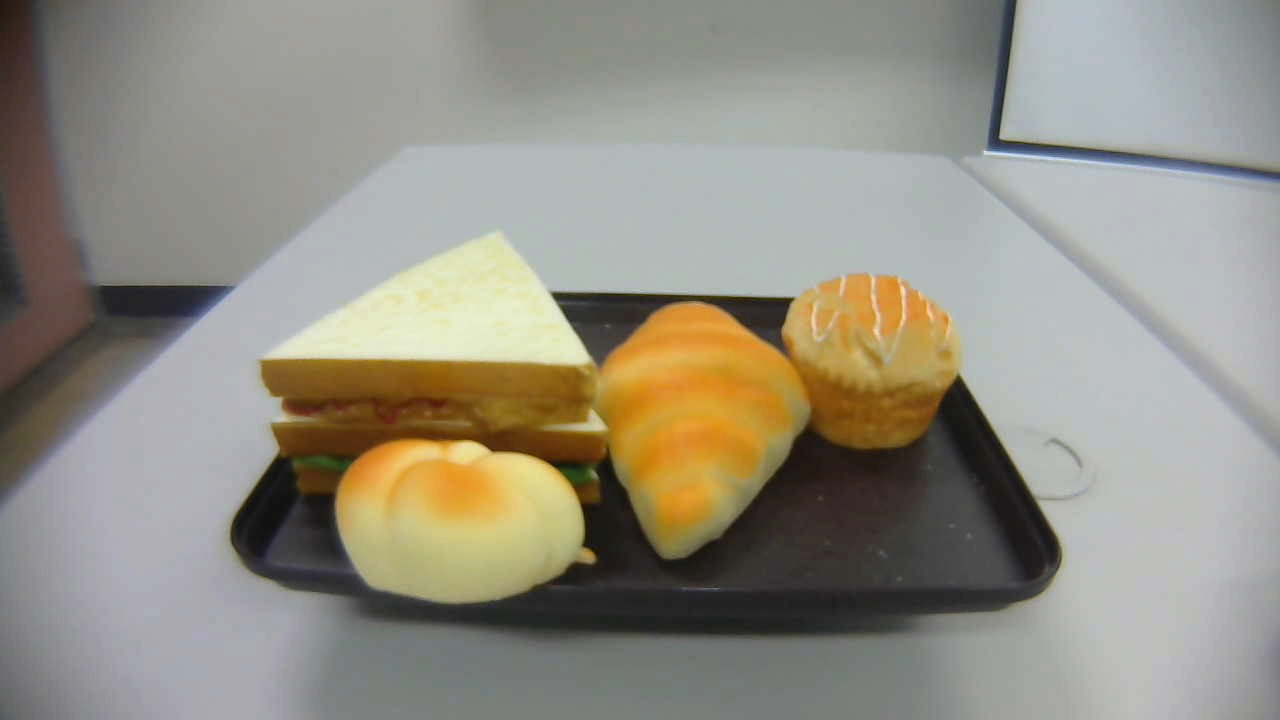croissant: (596, 301, 814, 568)
cupcake: (782, 272, 962, 450)
sandwich: (257, 226, 611, 507)
twist bread: (334, 441, 596, 601)
